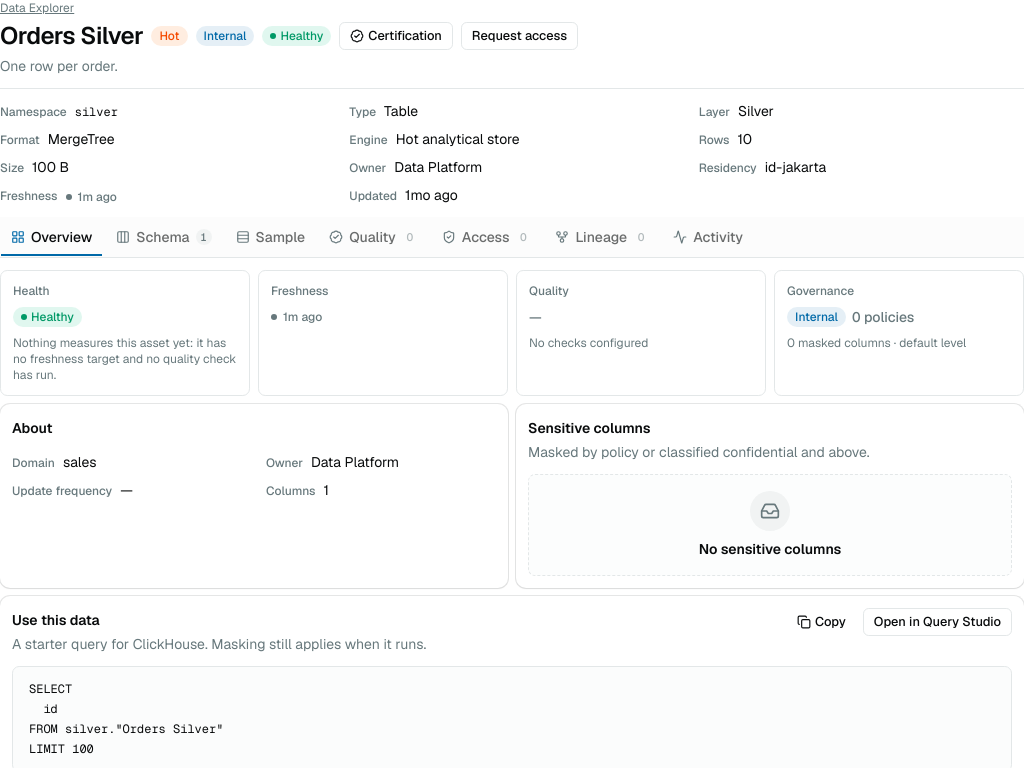
Test: AssetDetailPage certification control › shows the API's sentence and keeps the dialog open on a refusal
Click the button "Certification" at (396, 36), box x1=339 y1=22 x2=453 y2=50
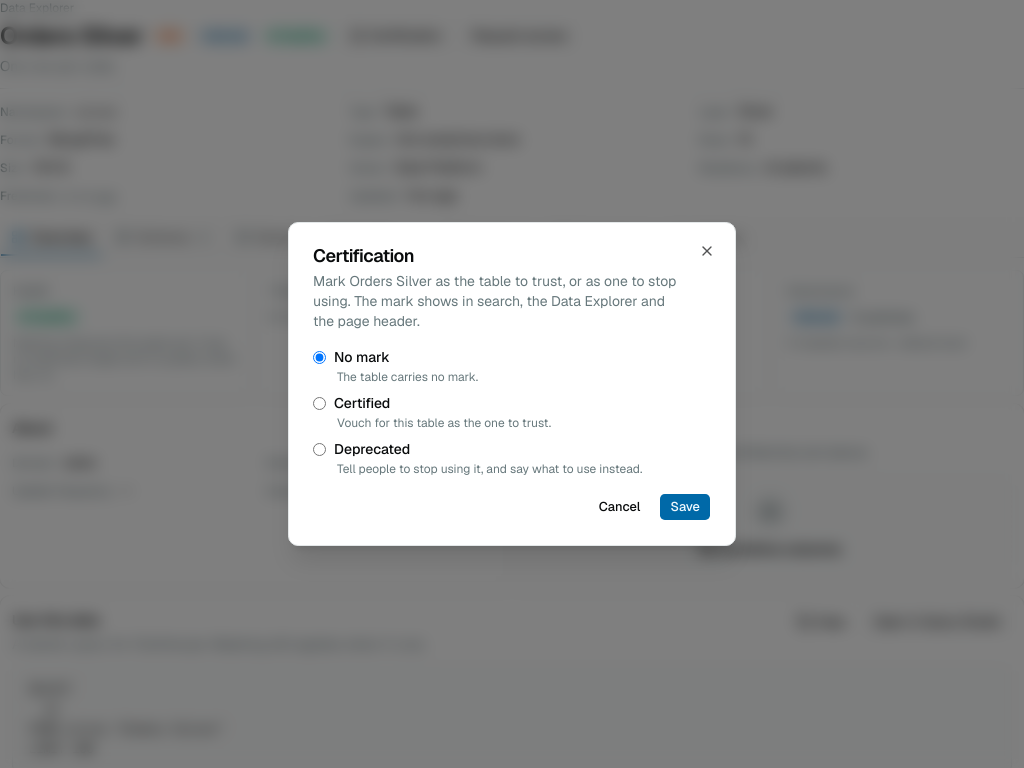
Click the radio button labelled "Deprecated" at (320, 449), box x1=313 y1=442 x2=326 y2=456
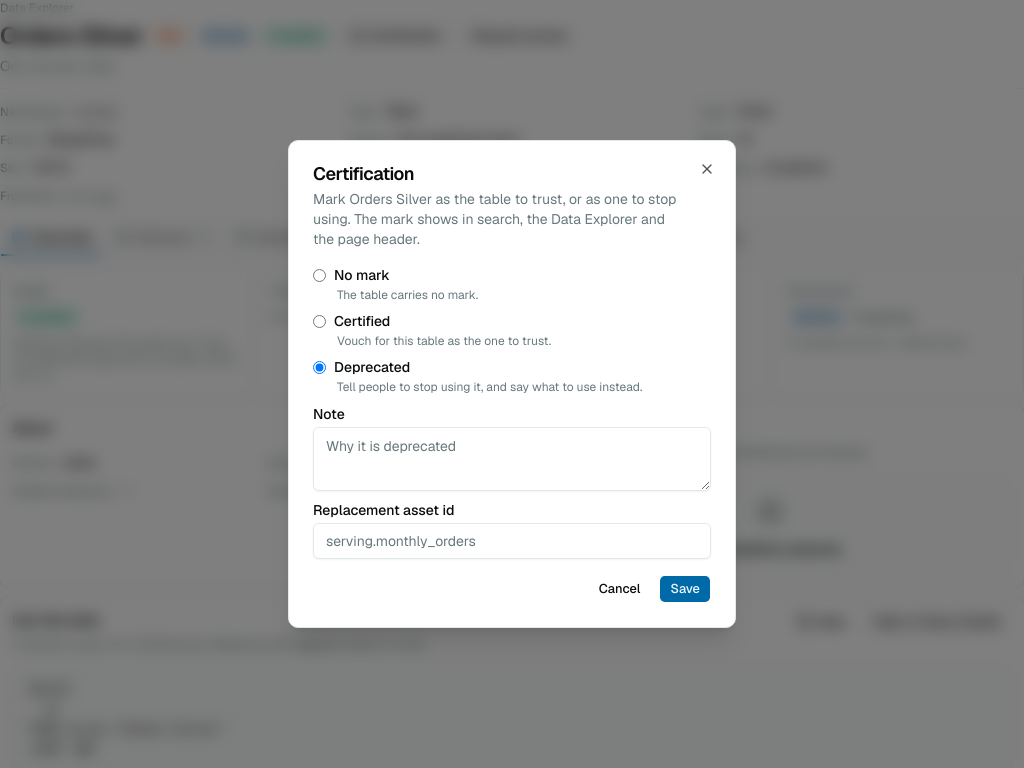
Type "serving.old" into the field labelled "Replacement asset id" at (512, 541), box x1=313 y1=523 x2=711 y2=559
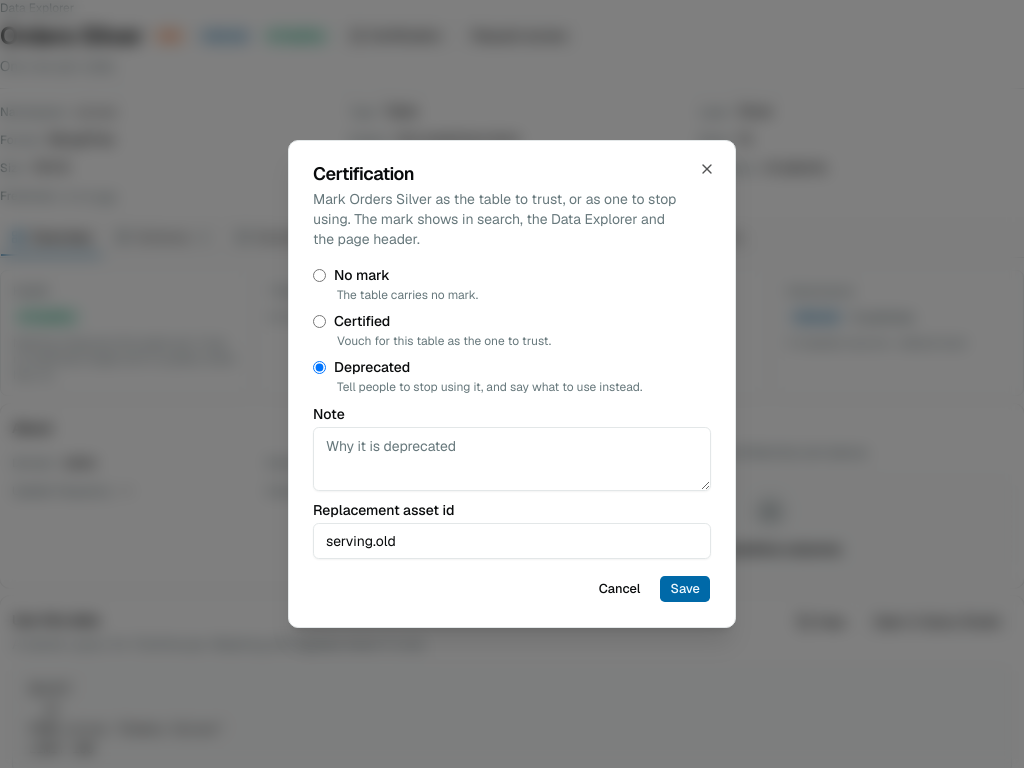
Click the button "Save" at (685, 589), box x1=660 y1=575 x2=711 y2=603
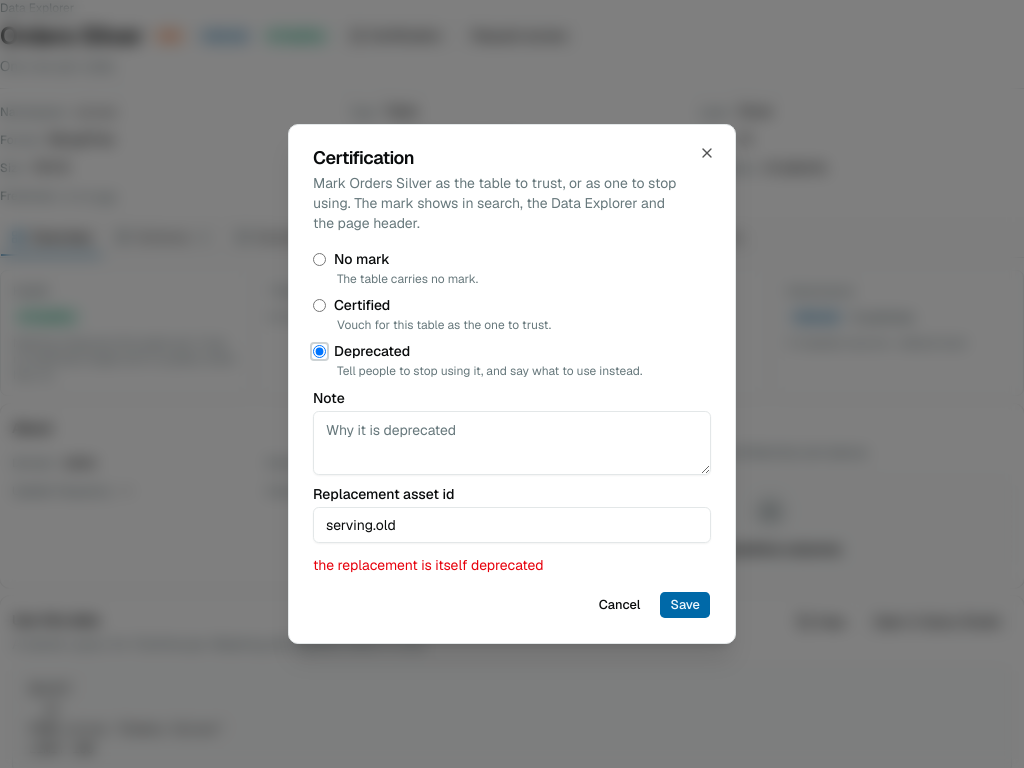
Result: the text "the replacement is itself deprecated" is shown at x1=313 y1=556 x2=544 y2=574
